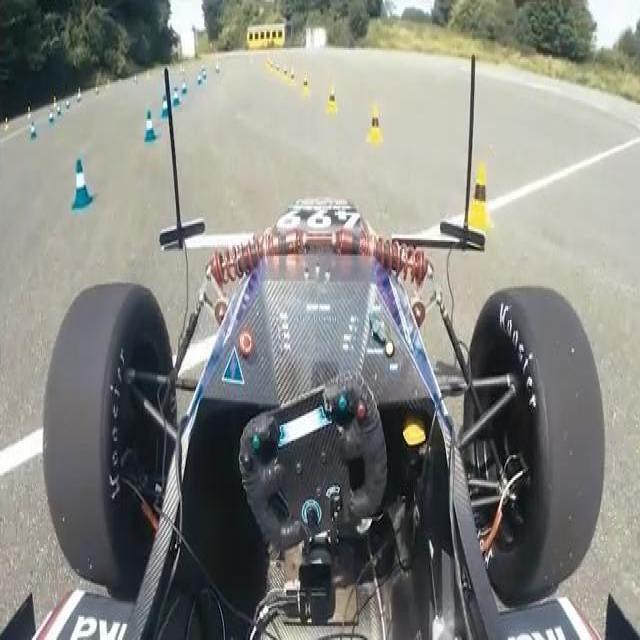blue_cone: (68, 156, 93, 212), (143, 105, 158, 143), (161, 91, 171, 118), (172, 86, 181, 108), (29, 121, 37, 142)
yellow_cone: (470, 156, 492, 231), (367, 105, 385, 145), (325, 84, 339, 117)
